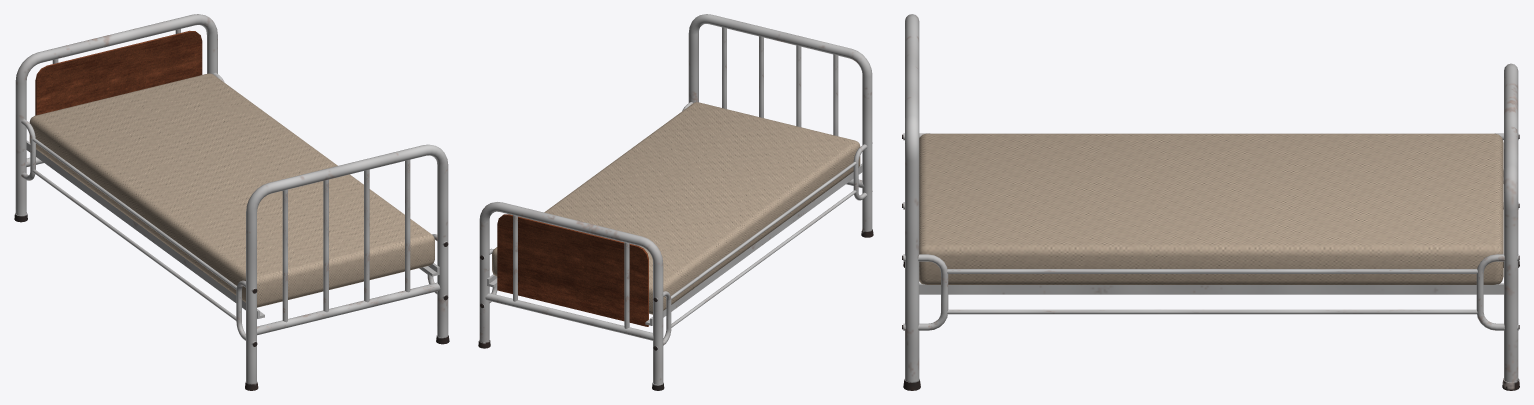
File: uploads_files_3764113_Bed.fbx
3 views of the same model, side by side, from view 1: azimuth 30°, elevation 25°; view 2: azimuth 150°, elevation 25°; view 3: azimuth 270°, elevation 25° (orthographic). The views are drawn at different scales.
Parts seen in each view (by area): view 1: Bed; view 2: Bed; view 3: Bed.
Part boxes in pixels (bbox=[...]): Bed: bbox=[14, 14, 449, 390]; Bed: bbox=[478, 14, 873, 390]; Bed: bbox=[902, 14, 1519, 390].
Size of the model in its own units: 99.07 by 93.48 by 201.
